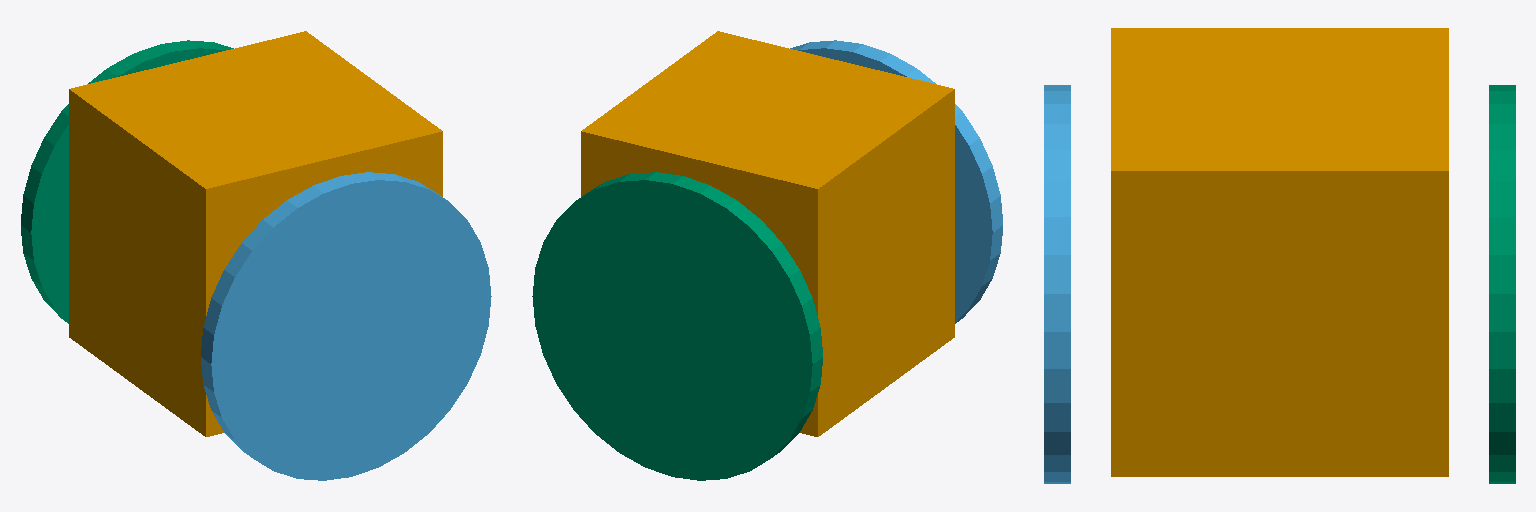
robot.urdf — inchbot_w_wheels:
<?xml version="1.0"?>

<robot name="inchbot_w_wheels">


<link name="body_link">
  <inertial>
    <mass value="0.03" />
    <origin xyz="0 0 0" />
    <inertia ixx="0.0000032258" ixy="0.0" ixz="0.0"
      iyy="0.0000032258" iyz="0.0"
      izz="0.0000032258" />
  </inertial>

  <visual>
    <origin xyz="0 0 0.0177" />
    <geometry>
      <box size="0.0254 0.0254 0.0254"/>
    </geometry>
  </visual>

  <collision>
    <origin xyz="0 0 0" />
    <geometry>
      <box size="0.0254 0.0254 0.0254"/>
    </geometry>
  </collision>
</link>

<gazebo reference="body_link">
  <material>Gazebo/Grey</material>
</gazebo>


<link name="left_wheel">
  <inertial>
    <mass value="0.001" />
    <origin xyz="0 0 0" />
    <inertia ixx="0.00000005659" ixy="0.0" ixz="0.0"
      iyy="0.00000005659" iyz="0.0"
      izz="0.0000001125" />
  </inertial>

  <visual>
    <origin xyz="0 0 0.001" />
    <geometry>
      <cylinder radius="0.015" length="0.002" />
    </geometry>
  </visual>

  <collision>
    <origin xyz="0 0 0" />
    <geometry>
      <cylinder radius="0.015" length="0.002" />
    </geometry>
  </collision>
</link>

<gazebo reference="left_wheel">
  <material>Gazebo/Red</material>
</gazebo>


<link name="right_wheel">
  <inertial>
    <mass value="0.001" />
    <origin xyz="0 0 0" />
    <inertia ixx="0.00000005659" ixy="0.0" ixz="0.0"
      iyy="0.00000005659" iyz="0.0"
      izz="0.0000001125" />
  </inertial>

  <visual>
    <origin xyz="0 0 0.001" />
    <geometry>
      <cylinder radius="0.015" length="0.002" />
    </geometry>
  </visual>

  <collision>
    <origin xyz="0 0 0" />
    <geometry>
      <cylinder radius="0.015" length="0.002" />
    </geometry>
  </collision>
</link>

<gazebo reference="right_wheel">
  <material>Gazebo/Red</material>
</gazebo>


<joint name="left_motor" type="continuous">
  <parent link="body_link" />
  <child link="left_wheel" />
  <origin xyz="0 -0.0177 0.015" rpy="-1.5708 0 0" />
  <axis xyz="0 0 1" />
</joint>


<joint name="right_motor" type="continuous">
  <parent link="body_link" />
  <child link="right_wheel" />
  <origin xyz="0 0.0177 0.015" rpy="1.5708 0 0" />
  <axis xyz="0 0 1" />
</joint>


</robot>

--- What the picture shows (computed from the rendered views, not written in the file) ---
Views: 3 orthographic renders of the robot side by side, from view 1: azimuth 30°, elevation 25°; view 2: azimuth 150°, elevation 25°; view 3: azimuth 270°, elevation 25°.
Robot: inchbot_w_wheels — 3 links, 2 joints (2 continuous); root link body_link; default pose: all joints at 0.
Visible links, largest first — view 1: body_link, left_wheel, right_wheel; view 2: body_link, right_wheel, left_wheel; view 3: body_link, left_wheel, right_wheel.
Link boxes in pixels (x1=…): body_link: x1=69, y1=31, x2=442, y2=436; left_wheel: x1=201, y1=172, x2=491, y2=480; right_wheel: x1=21, y1=40, x2=233, y2=323; body_link: x1=581, y1=31, x2=954, y2=436; right_wheel: x1=532, y1=172, x2=822, y2=480; left_wheel: x1=790, y1=40, x2=1002, y2=323; body_link: x1=1111, y1=28, x2=1448, y2=476; left_wheel: x1=1044, y1=85, x2=1070, y2=483; right_wheel: x1=1489, y1=85, x2=1515, y2=483.
Bounding box of the posed robot: 0.03 × 0.0354 × 0.0304 m (x, y, z).
Geometry: primitives only (box / cylinder / sphere), no mesh files.